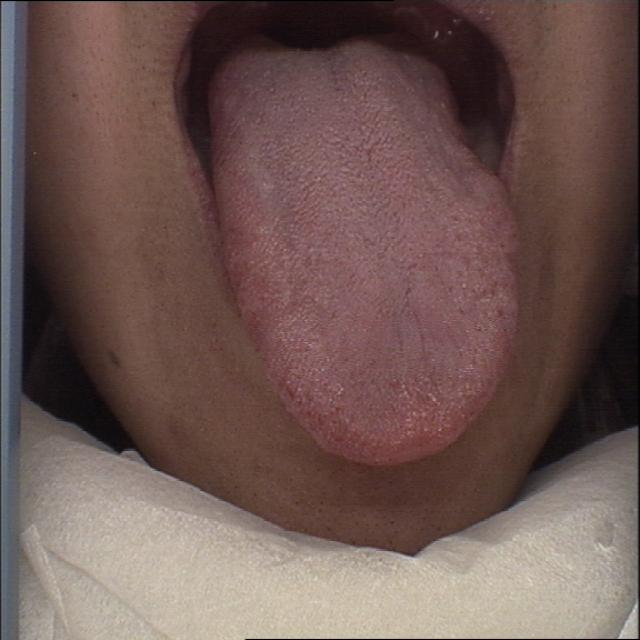tongue: (204, 31, 538, 472)
